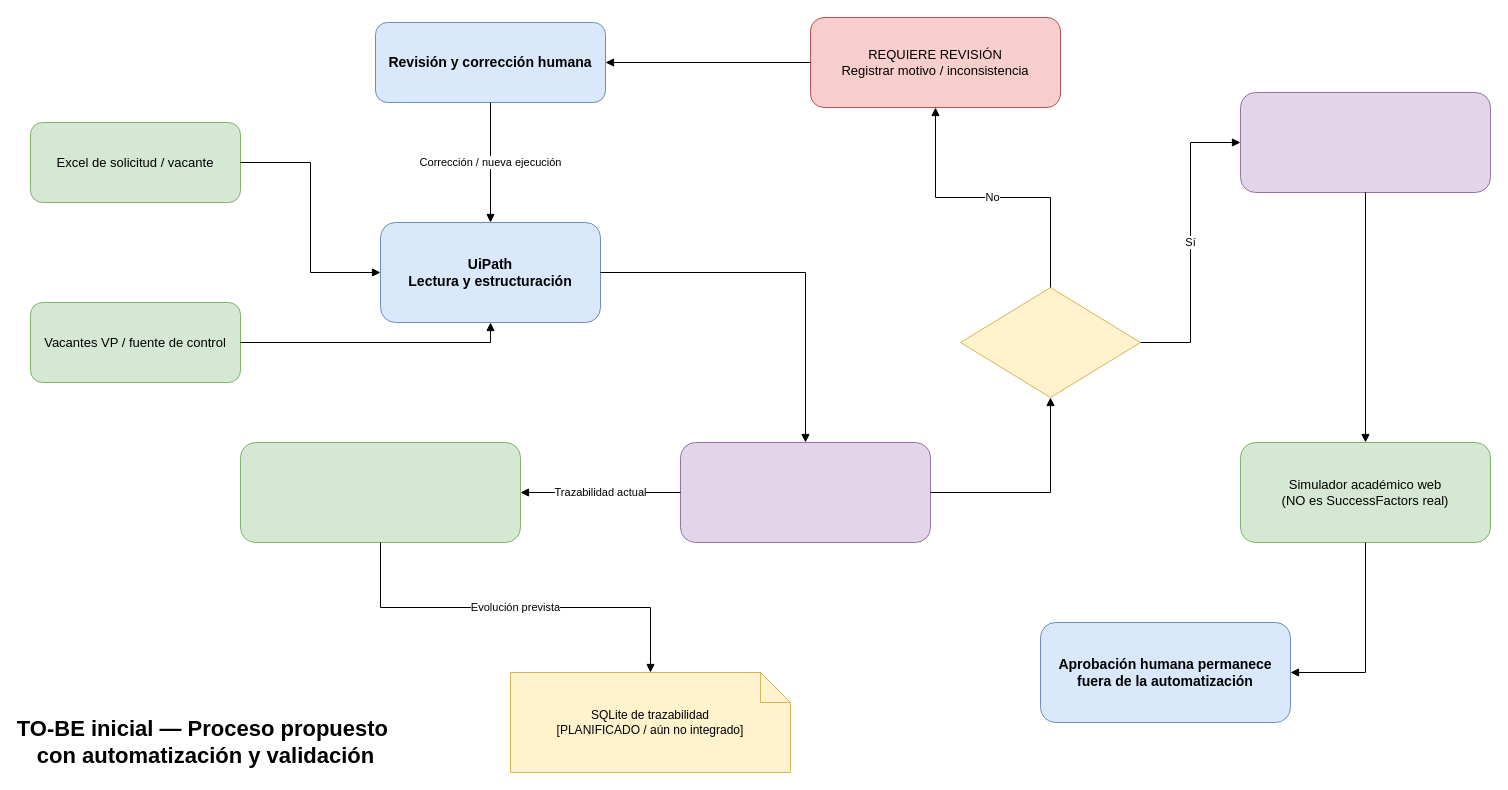
Some shapes in this 1508 by 790 pixel diagram are drawn without their labels. Here are the shapes that lost their labels. From the top down, the centre of each, then its label:
At (x=1365, y=142): "Preparar datos de posición y requisición".
At (x=1050, y=342): "¿Solicitud válida?".
At (x=380, y=492): "Resultados_Validacion.xlsx Estado + motivo + valores comparados".
At (x=805, y=492): "Mapeo + normalización + reglas de validación".
